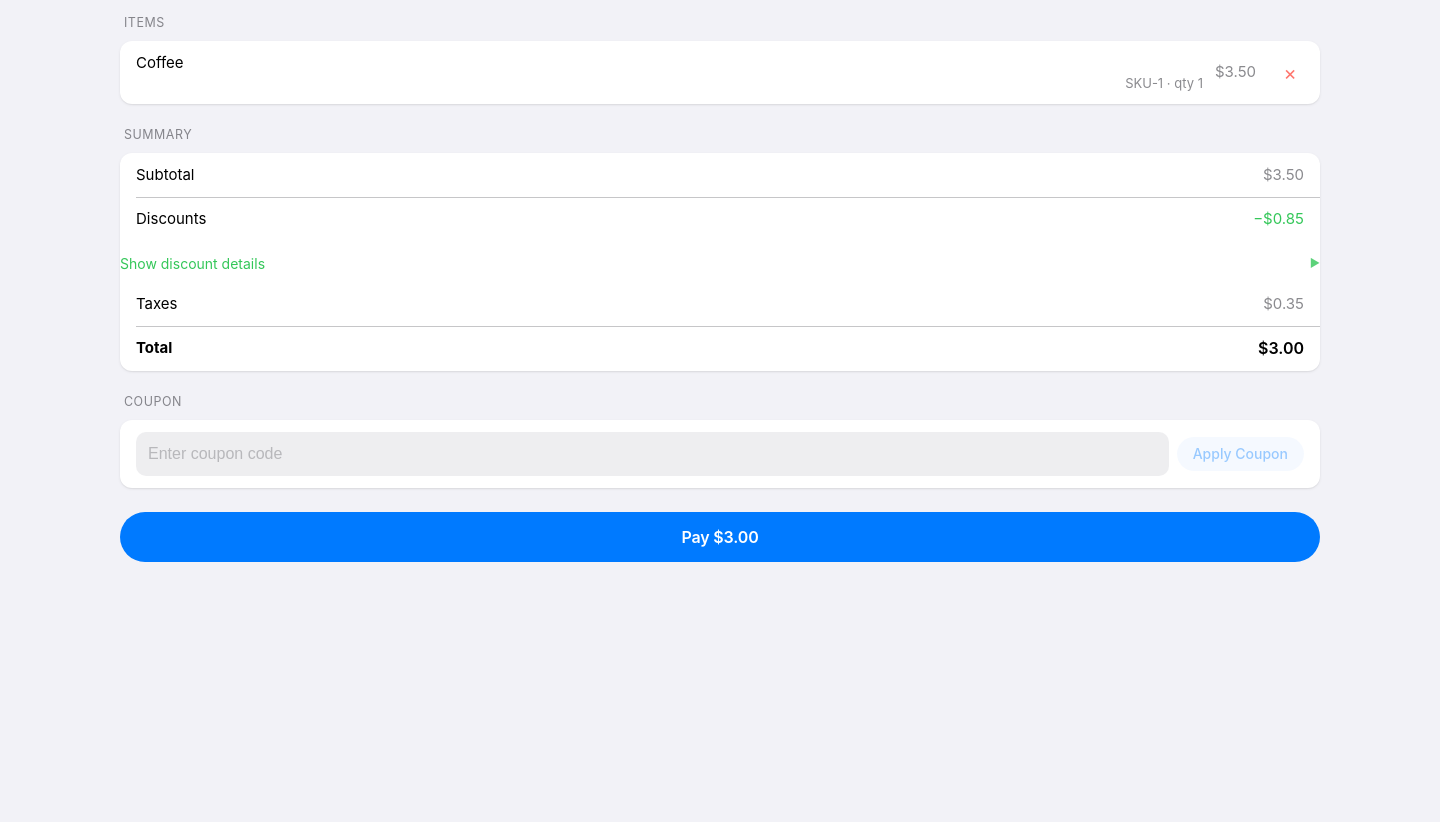
Scenario: CartPanel coupon apply › shows promotion identifiers and coupon sources in discount details
What coordinates should you click on to do the following:
click the button "Show discount details ▶"
I would click on:
 (138, 264)
Its box is [120, 245, 1320, 282].
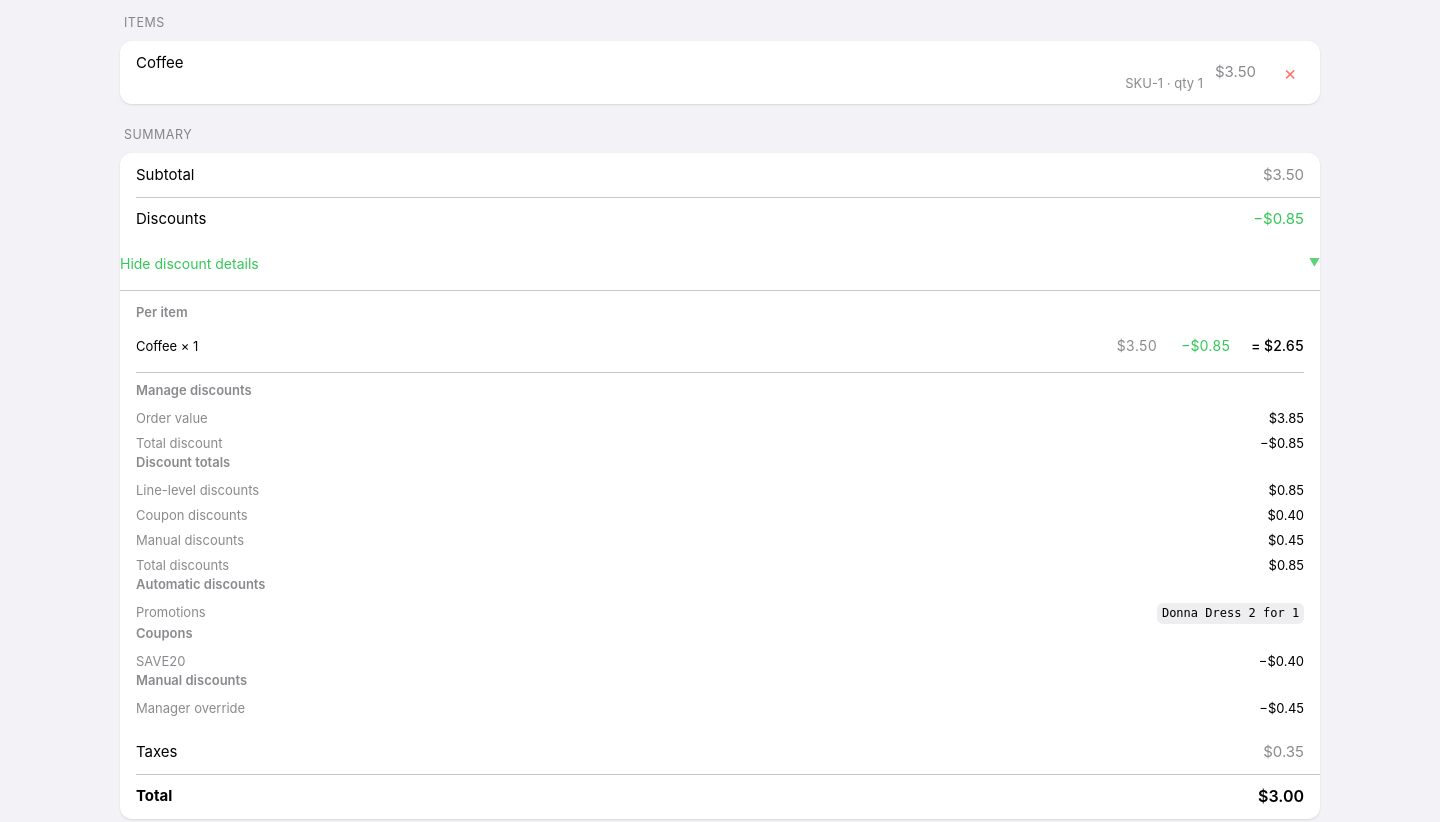
Now the text "Donna Dress 2 for 1" is shown, box [1157, 603, 1304, 624]
Now the text "SAVE20" is shown, box [136, 652, 185, 671]
Now the text "Manager override" is shown, box [136, 699, 245, 718]
